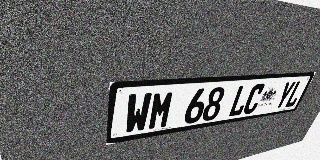6: (183, 88, 210, 125)
8: (201, 86, 227, 122)
C: (241, 83, 267, 115)
L: (227, 84, 253, 117), (283, 80, 307, 108)
M: (147, 90, 175, 130)
W: (124, 92, 153, 134)
Y: (273, 81, 297, 110)
